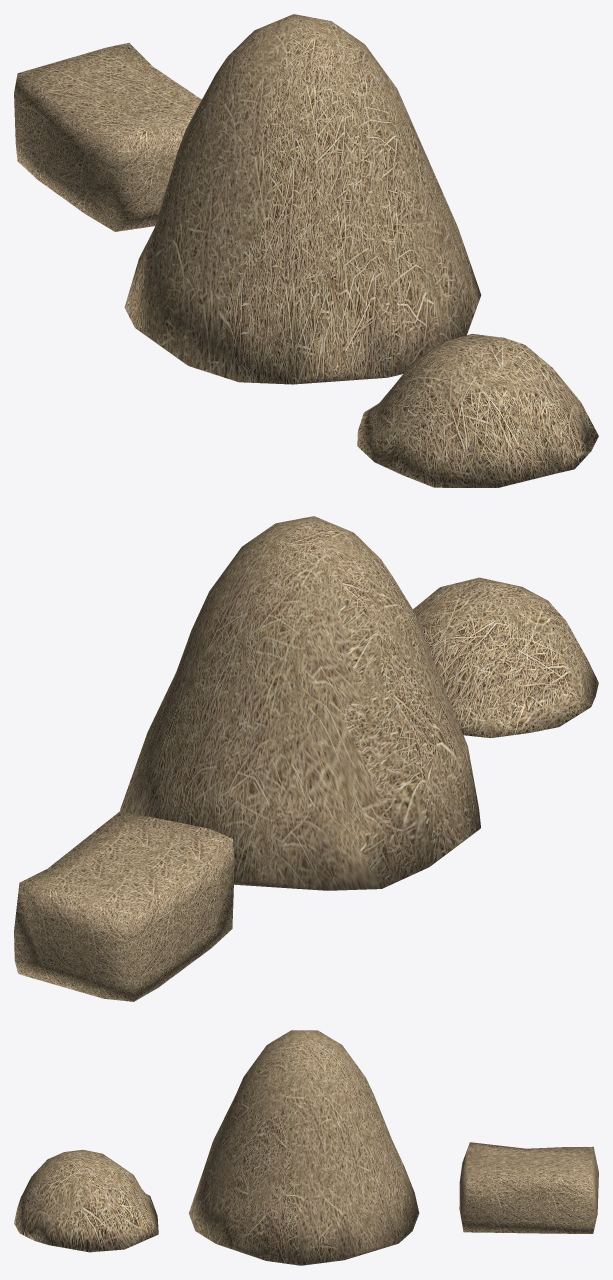
File: Hay set.fbx
3 views of the same model, one above another, from view 1: azimuth 30°, elevation 25°; view 2: azimuth 150°, elevation 25°; view 3: azimuth 270°, elevation 25° (orthographic). The views are drawn at different scales.
Visible parts, largest first — view 1: hay 2, hay 1, hay 3; view 2: hay 2, hay 3, hay 1; view 3: hay 2, hay 3, hay 1.
Boxes of the visible parts, x1,y1,x2,y2 form: hay 2: (124, 14, 481, 384); hay 1: (357, 333, 598, 487); hay 3: (14, 43, 201, 231); hay 2: (120, 516, 480, 890); hay 3: (14, 811, 234, 1001); hay 1: (413, 577, 598, 738); hay 2: (188, 1030, 419, 1265); hay 3: (459, 1142, 598, 1233); hay 1: (14, 1149, 158, 1252).
Bounding box in the file's own units: 463 × 427 × 1201.
